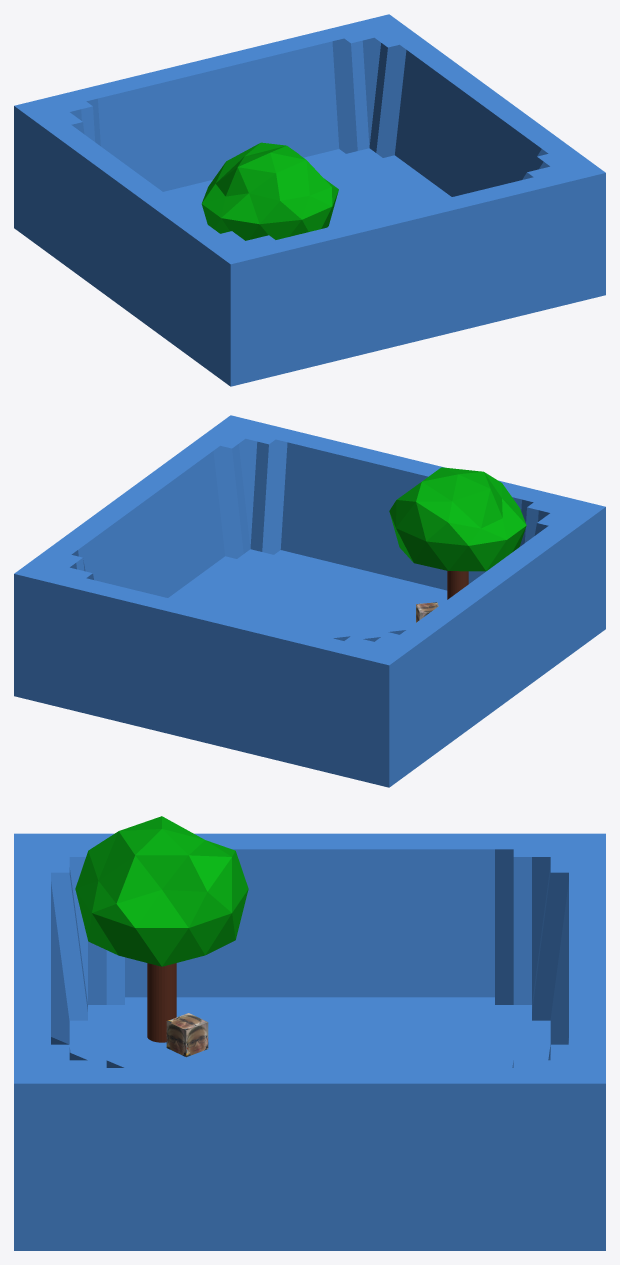
The model's file is menu_scene.glb.
3 renders of one model, top to bottom at view 1: azimuth 30°, elevation 25°; view 2: azimuth 150°, elevation 25°; view 3: azimuth 270°, elevation 25°, orthographic. The views are drawn at different scales.
Visible parts, largest first — view 1: Cube, Icosphere; view 2: Cube, Icosphere; view 3: Cube, Icosphere, Cylinder, Cube.001.
Boxes of the visible parts, <box> form: Cube: <box>14,14,605,386</box>; Icosphere: <box>201,142,338,240</box>; Cube: <box>14,415,605,787</box>; Icosphere: <box>389,467,526,571</box>; Cube: <box>14,833,605,1250</box>; Icosphere: <box>75,816,248,966</box>; Cylinder: <box>147,963,176,1042</box>; Cube.001: <box>166,1013,208,1057</box>.
Size of the model in its own units: 40 by 17.47 by 40.
Materials: 4 (1 with a texture image).
